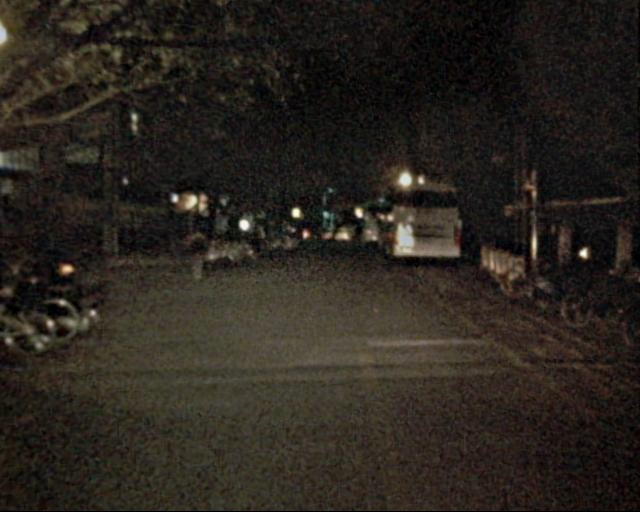person: (183, 217, 210, 283), (247, 219, 263, 257), (343, 223, 364, 251)
